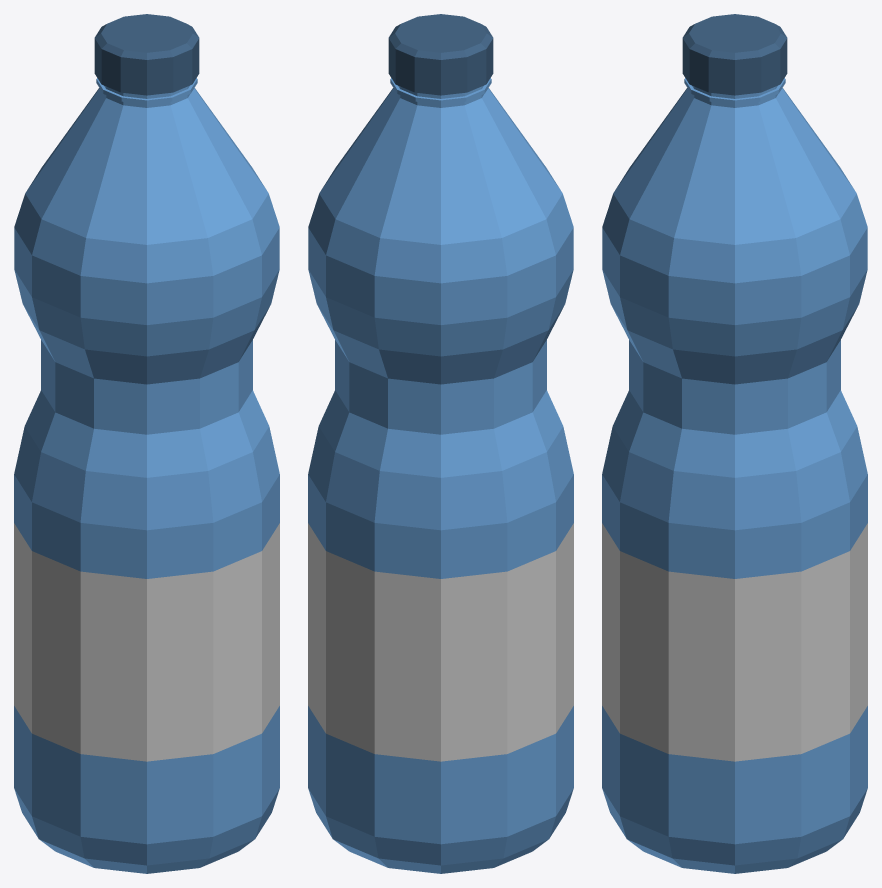
File: WaterBottle.fbx
3 views of the same model, side by side, from view 1: azimuth 30°, elevation 25°; view 2: azimuth 150°, elevation 25°; view 3: azimuth 270°, elevation 25° (orthographic).
Parts seen in each view (by area): view 1: Bottle_LOD0; view 2: Bottle_LOD0; view 3: Bottle_LOD0.
Boxes of the visible parts, left/top/right/bottom form: Bottle_LOD0: left=14, top=14, right=279, bottom=873; Bottle_LOD0: left=308, top=14, right=573, bottom=873; Bottle_LOD0: left=602, top=14, right=867, bottom=873.
Size of the model in its own units: 40 by 132 by 40.
